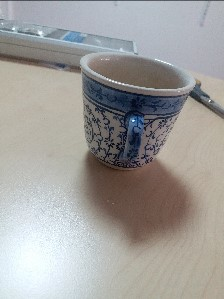cup: (79, 50, 201, 175)
